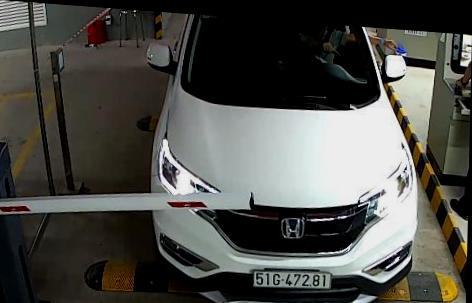License_Plate: (249, 267, 332, 292)
